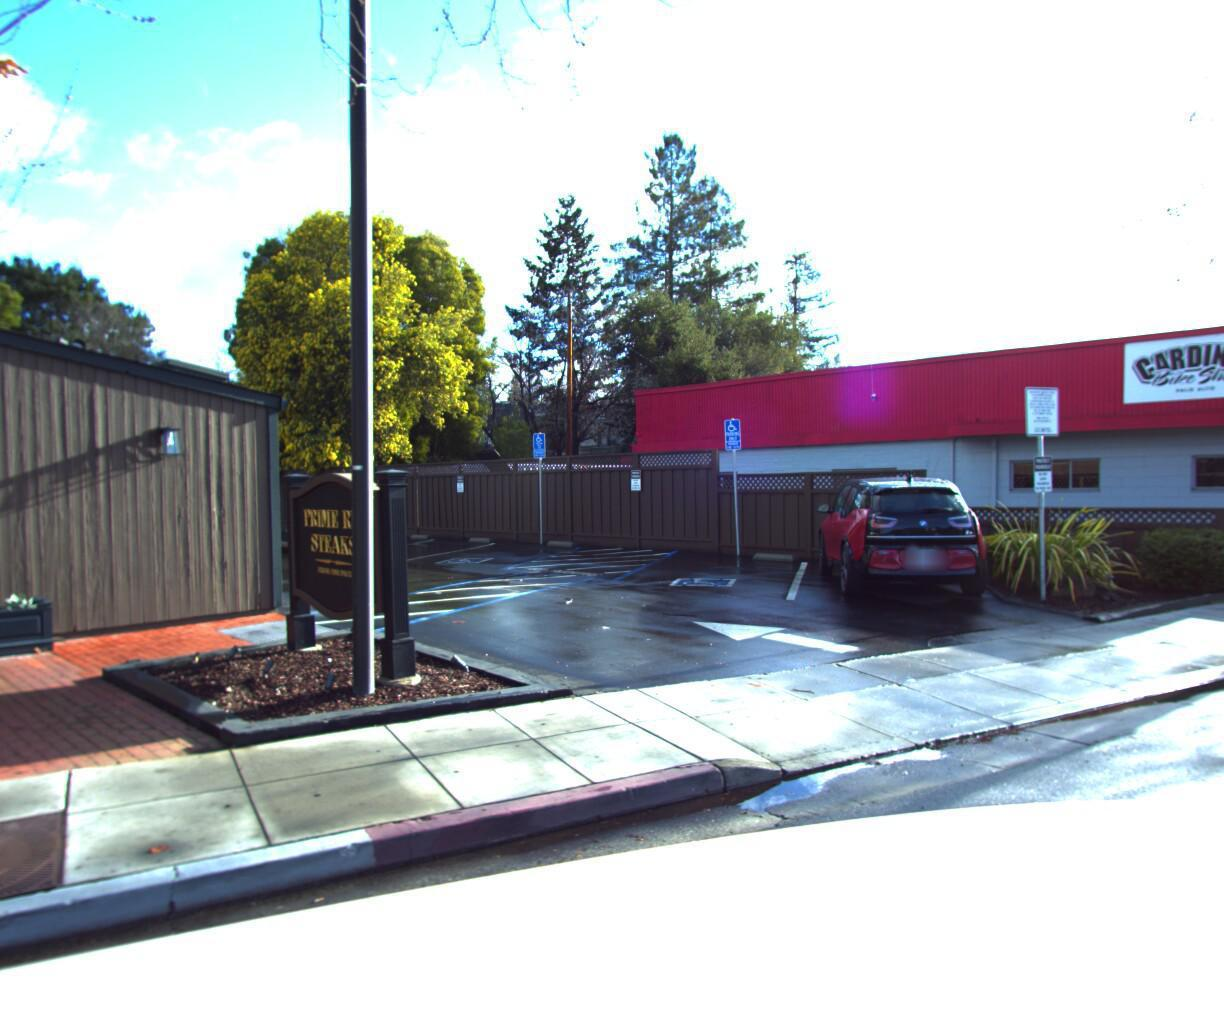car: (810, 476, 1011, 606)
